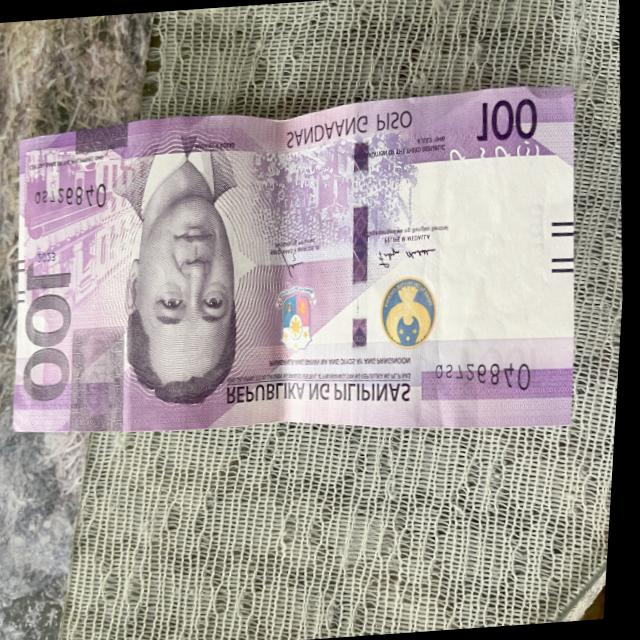concealed_value: (68, 322, 137, 432)
security_thread: (331, 108, 388, 405)
see_through_mark: (441, 128, 561, 184)
serial_number: (428, 346, 545, 402), (28, 168, 118, 209)
value: (16, 256, 88, 409)
value_watermark: (522, 196, 555, 258)
